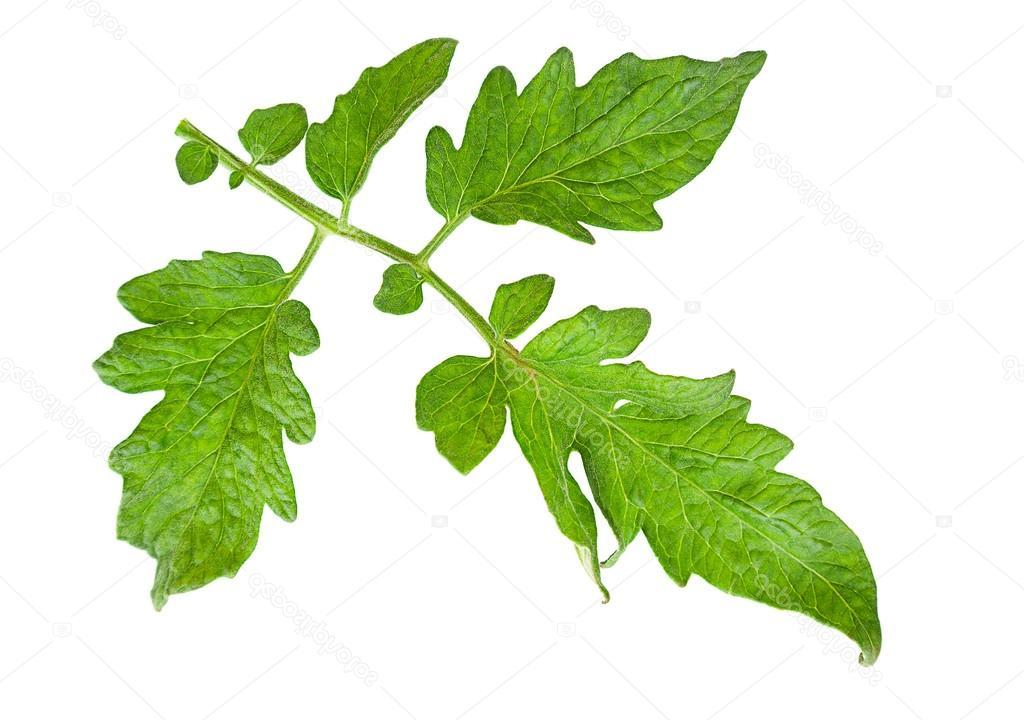Tomato leaf: (381, 285, 923, 662), (76, 255, 340, 612), (422, 38, 813, 232), (300, 28, 463, 220)
